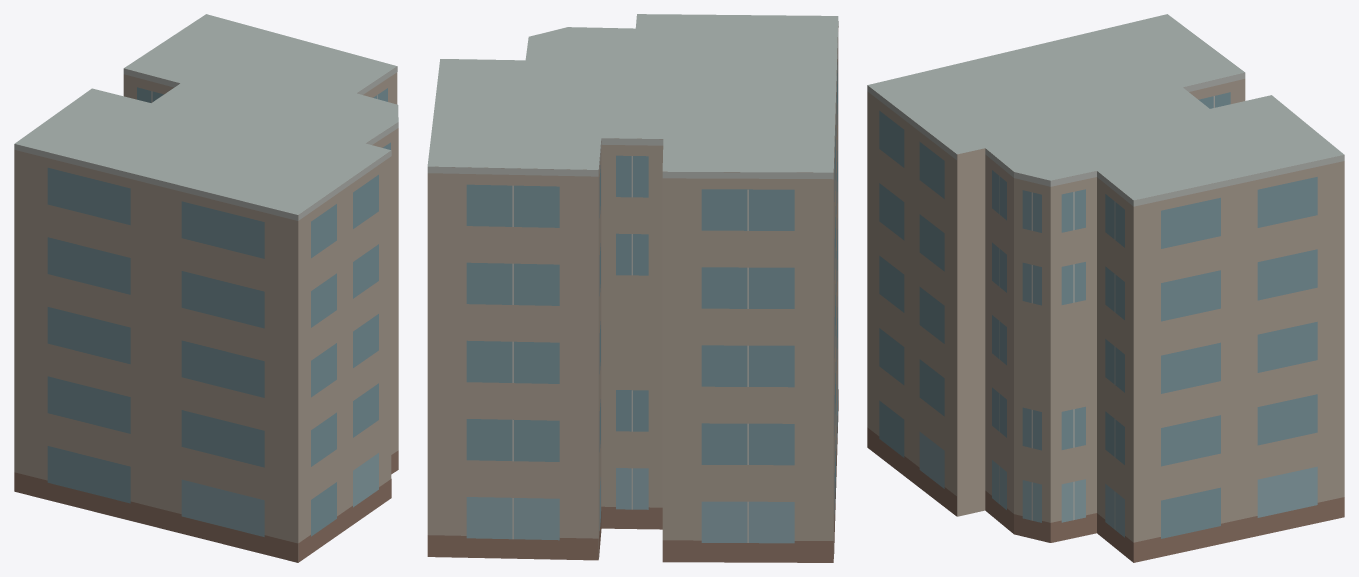
Rendered from survey-upis-32740433.glb.
The picture shows the model from 3 angles, left to right: view 1: azimuth 30°, elevation 25°; view 2: azimuth 150°, elevation 25°; view 3: azimuth 270°, elevation 25°; orthographic projection. The views are drawn at different scales.
Parts seen in each view (by area): view 1: survey-upis-32740433.tmp; view 2: survey-upis-32740433.tmp; view 3: survey-upis-32740433.tmp.
Boxes of the visible parts, left/top/right/bottom form: survey-upis-32740433.tmp: left=14, top=14, right=398, bottom=562; survey-upis-32740433.tmp: left=427, top=14, right=838, bottom=562; survey-upis-32740433.tmp: left=867, top=14, right=1344, bottom=562.
Size of the model in its own units: 15.91 by 14.4 by 17.2.
